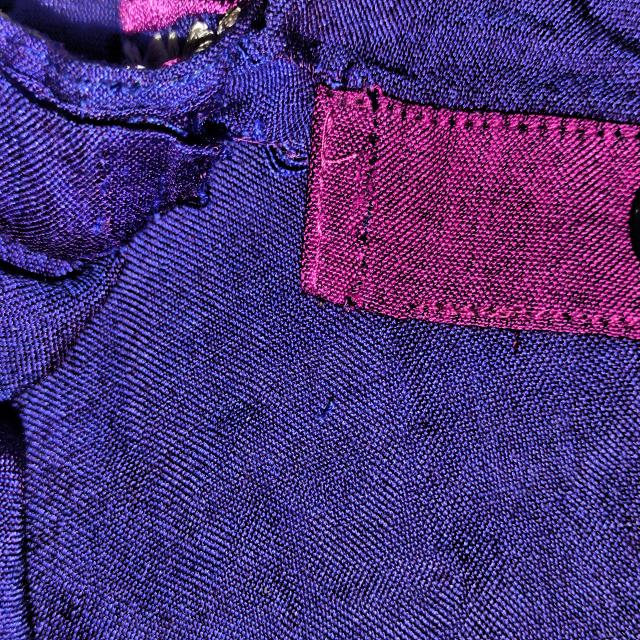seam: (92, 61, 310, 274)
